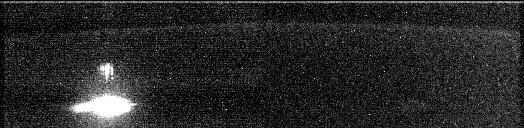positive: (96, 59, 115, 84)
